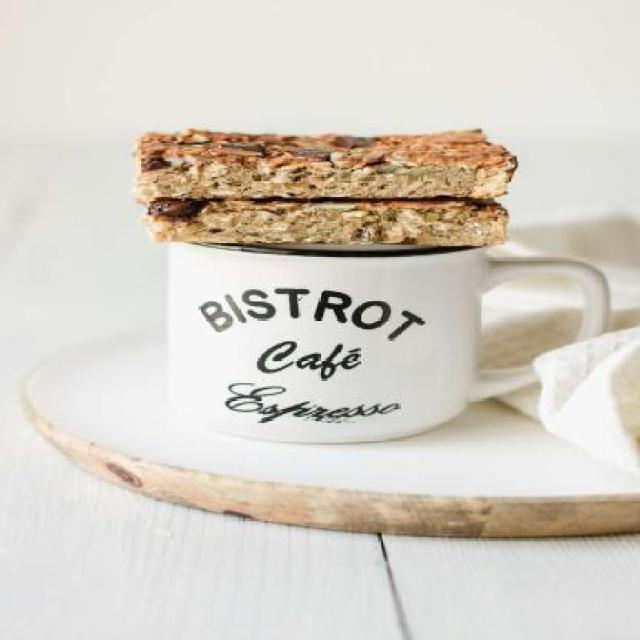Cereal bar packaged: (120, 112, 532, 196), (133, 190, 541, 246)
